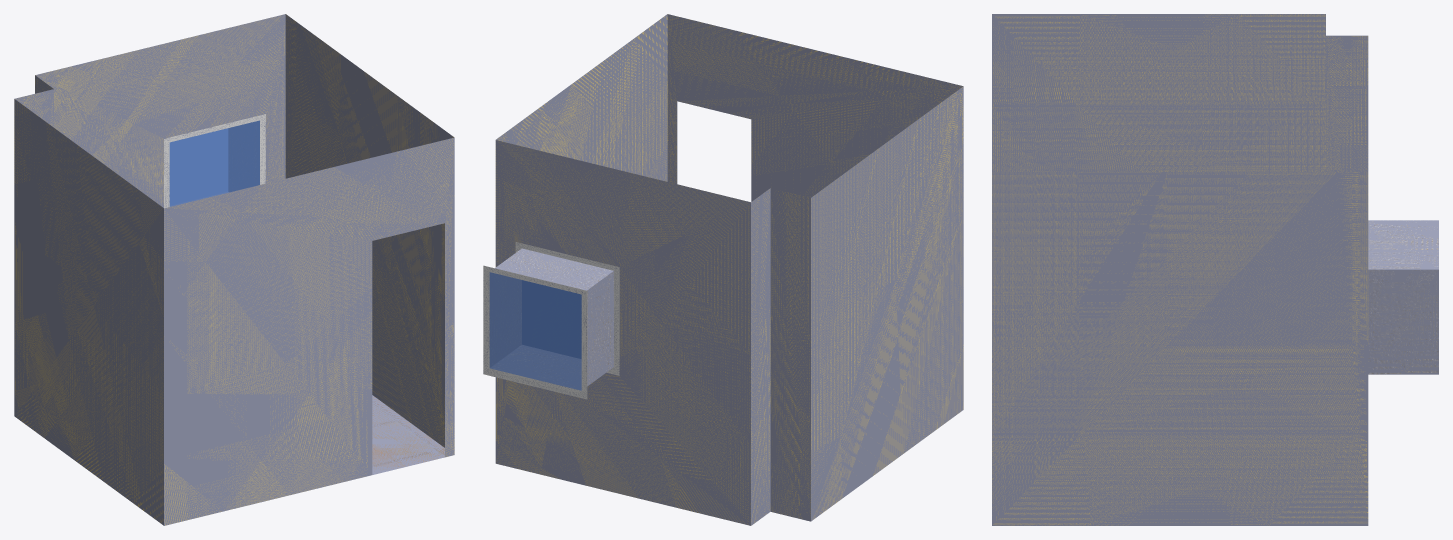
File: DES029.obj
3 views of the same model, side by side, from view 1: azimuth 30°, elevation 25°; view 2: azimuth 150°, elevation 25°; view 3: azimuth 270°, elevation 25° (orthographic). The views are drawn at different scales.
Parts seen in each view (by area): view 1: Mesh5 DES029 Model, Mesh1 Group1 DES029 Model; view 2: Mesh5 DES029 Model, Mesh1 Group1 DES029 Model; view 3: Mesh5 DES029 Model, Mesh1 Group1 DES029 Model.
Part boxes in pixels (x1,y1,x2,y2): Mesh5 DES029 Model: [14, 14, 454, 525]; Mesh1 Group1 DES029 Model: [164, 114, 265, 208]; Mesh5 DES029 Model: [495, 14, 963, 525]; Mesh1 Group1 DES029 Model: [483, 242, 619, 399]; Mesh5 DES029 Model: [992, 14, 1368, 525]; Mesh1 Group1 DES029 Model: [1368, 220, 1438, 374].
Bounding box in the file's own units: 2.87 × 3 × 3.44.
6 materials, 2 textured.
